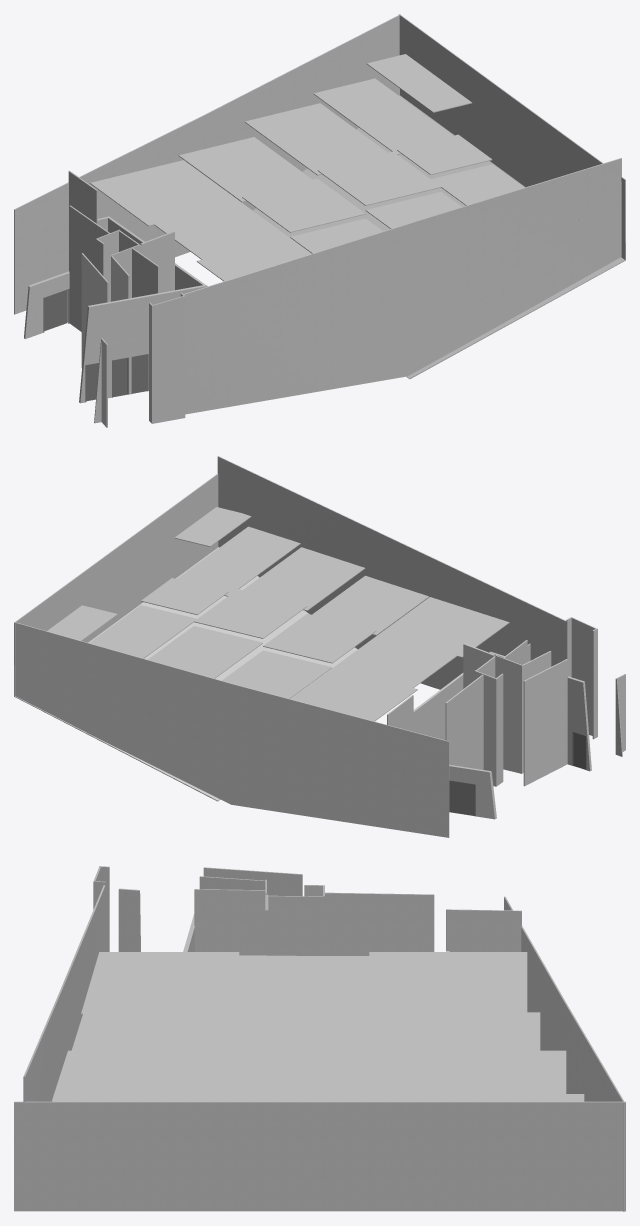
The model's file is partitions auditorium.FBX.
The picture shows the model from 3 angles, top to bottom: view 1: azimuth 30°, elevation 25°; view 2: azimuth 150°, elevation 25°; view 3: azimuth 270°, elevation 25°; orthographic projection. The views are drawn at different scales.
Visible parts, largest first — view 1: Walls <Basic Wall : Interior - 3 1/8" Partition (1-hr) Main2 (×10), Plane181, Plane180, Plane163, Plane170, Box154, Plane166, Plane165, Plane168, Plane171, Plane178, Plane174 (+9 smaller); view 2: Plane181, Walls <Basic Wall : Interior - 3 1/8" Partition (1-hr) Main2 (×10), Plane180, Plane164, Plane172, Plane163, Plane165, Plane169, Plane170, Plane168, Plane171, Plane166 (+10 smaller); view 3: Plane180, Walls <Basic Wall : Interior - 3 1/8" Partition (1-hr) Main2 (×9), Plane163, Plane164, Plane170, Plane172, Plane166, Plane165, Plane169, Plane181, Plane171, Plane168 (+5 smaller).
Boxes of the visible parts, left/top/right/bottom form: Walls <Basic Wall : Interior - 3 1/8" Partition (1-hr) Main2 (×10): left=68, top=158, right=621, bottom=427; Plane181: left=14, top=14, right=400, bottom=314; Plane180: left=253, top=14, right=625, bottom=379; Plane163: left=90, top=160, right=241, bottom=226; Plane170: left=245, top=103, right=387, bottom=175; Box154: left=79, top=285, right=207, bottom=403; Plane166: left=178, top=137, right=311, bottom=202; Plane165: left=154, top=203, right=289, bottom=259; Plane168: left=242, top=178, right=365, bottom=232; Plane171: left=317, top=151, right=441, bottom=205; Plane178: left=366, top=54, right=471, bottom=112; Plane174: left=313, top=78, right=416, bottom=124; Plane181: left=14, top=622, right=449, bottom=837; Walls <Basic Wall : Interior - 3 1/8" Partition (1-hr) Main2 (×10): left=217, top=456, right=597, bottom=786; Plane180: left=14, top=473, right=357, bottom=801; Plane164: left=377, top=597, right=509, bottom=657; Plane172: left=243, top=547, right=365, bottom=610; Plane163: left=290, top=668, right=417, bottom=721; Plane165: left=333, top=636, right=456, bottom=687; Plane169: left=312, top=575, right=428, bottom=635; Plane170: left=148, top=626, right=262, bottom=678; Plane168: left=263, top=613, right=376, bottom=663; Plane171: left=194, top=589, right=307, bottom=638; Plane166: left=222, top=650, right=332, bottom=698; Plane180: left=14, top=1101, right=625, bottom=1211; Walls <Basic Wall : Interior - 3 1/8" Partition (1-hr) Main2 (×9): left=23, top=866, right=521, bottom=1101; Plane163: left=369, top=952, right=527, bottom=1012; Plane164: left=81, top=952, right=239, bottom=1014; Plane170: left=369, top=1050, right=566, bottom=1093; Plane172: left=52, top=1050, right=239, bottom=1101; Plane166: left=369, top=1012, right=540, bottom=1050; Plane165: left=239, top=956, right=369, bottom=1005; Plane169: left=71, top=1012, right=239, bottom=1050; Plane181: left=504, top=896, right=624, bottom=1211; Plane171: left=239, top=1044, right=369, bottom=1093; Plane168: left=239, top=1005, right=369, bottom=1044.
Bounding box in the file's own units: 1271 × 454 × 1027.
2 materials, 1 textured.
